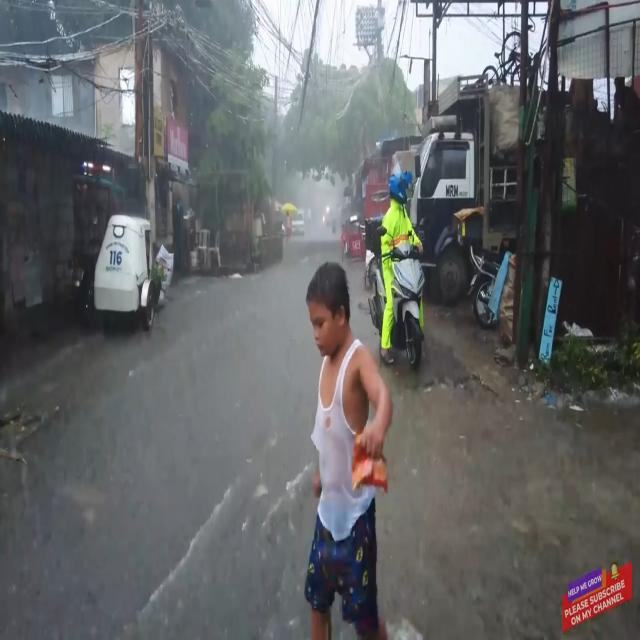half: (388, 169, 414, 203)
